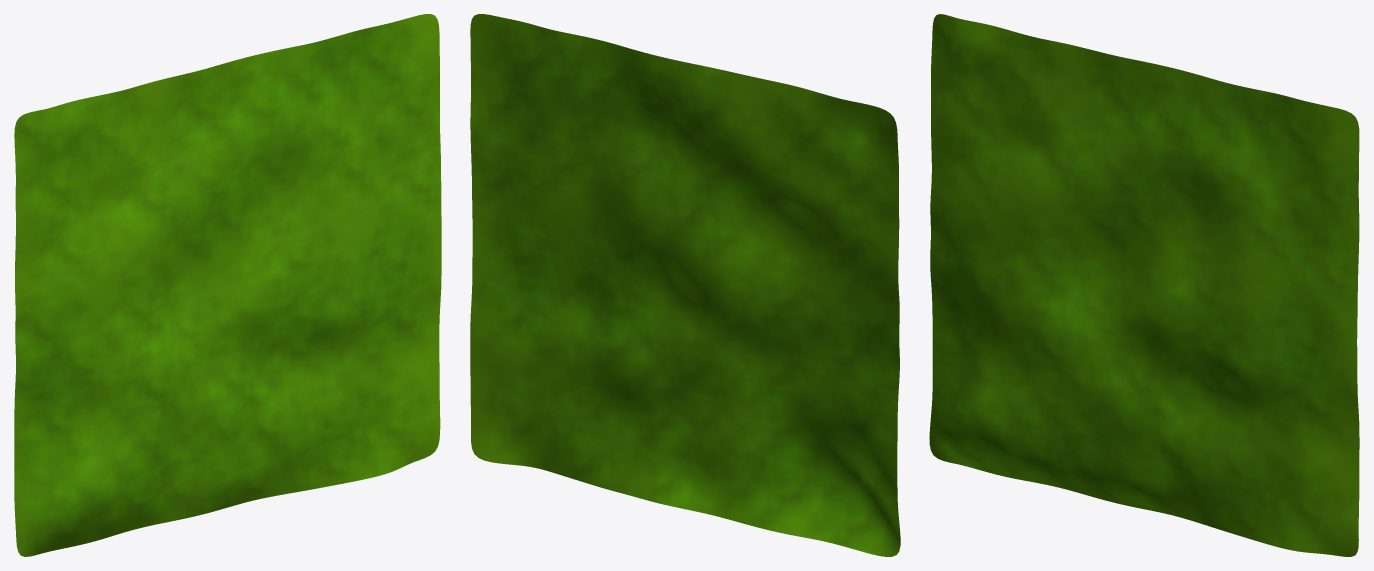
Rendered from terrain.fbx.
The picture shows the model from 3 angles, left to right: view 1: azimuth 30°, elevation 25°; view 2: azimuth 150°, elevation 25°; view 3: azimuth 330°, elevation 25°; orthographic projection.
Visible parts, largest first — view 1: Plane; view 2: Plane; view 3: Plane.
Boxes of the visible parts, bbox=[...] form: Plane: bbox=[14, 14, 441, 556]; Plane: bbox=[470, 14, 900, 556]; Plane: bbox=[929, 14, 1359, 556].
Bounding box in the file's own units: 200 × 201 × 11.63.
Materials: 1 (1 with a texture image).
